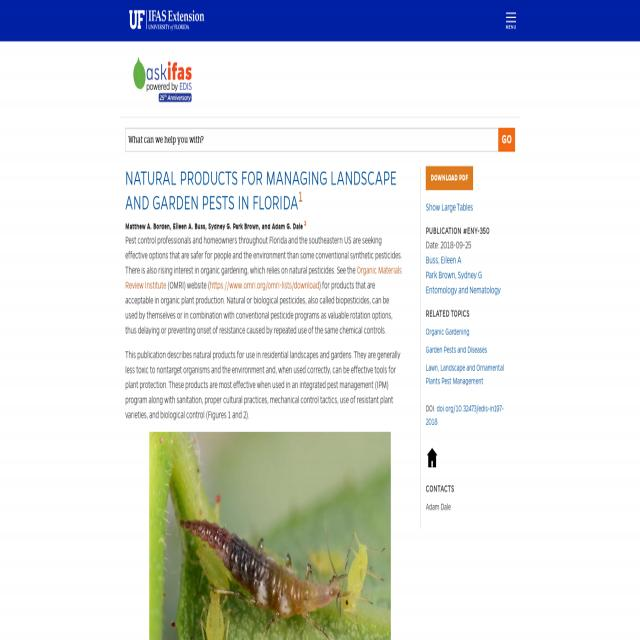button: (149, 431, 391, 640), (133, 56, 191, 102), (129, 10, 204, 31), (426, 166, 473, 190), (499, 127, 515, 152), (426, 443, 438, 472), (506, 12, 516, 27)
field: (125, 127, 499, 151)
